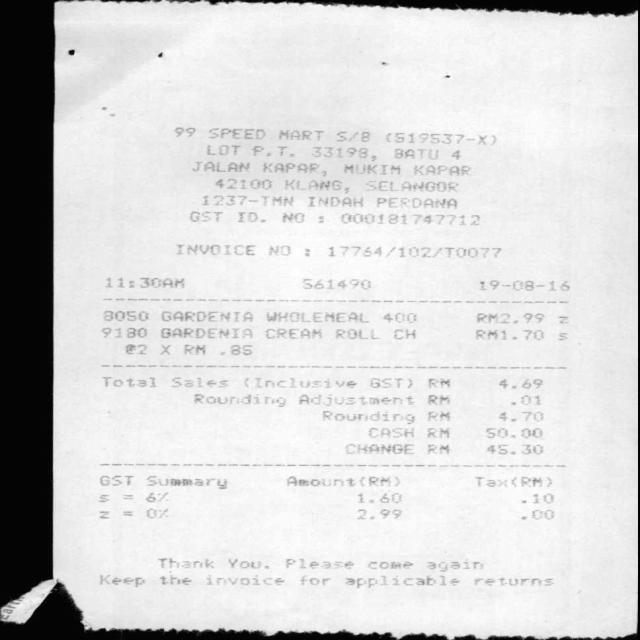text: (326, 245, 502, 258), (340, 212, 481, 226), (284, 474, 400, 488), (297, 394, 414, 406), (343, 575, 459, 587), (320, 409, 412, 424), (190, 393, 287, 407), (362, 179, 458, 193), (373, 195, 458, 210), (196, 194, 294, 207), (393, 132, 488, 145), (172, 242, 255, 256), (144, 474, 227, 488), (264, 312, 368, 323), (252, 377, 356, 388), (160, 327, 251, 339), (160, 311, 252, 322), (478, 280, 569, 291), (103, 276, 184, 288), (301, 277, 373, 290), (470, 475, 552, 486), (202, 575, 282, 586), (284, 558, 354, 570), (344, 443, 412, 455), (342, 161, 400, 175), (472, 576, 553, 586), (475, 329, 542, 341), (262, 160, 318, 174), (310, 146, 368, 159), (190, 160, 248, 173), (306, 195, 364, 208), (207, 127, 264, 140), (284, 178, 341, 191), (477, 313, 544, 324), (213, 178, 273, 190), (485, 442, 544, 454), (390, 146, 437, 161), (154, 557, 212, 569), (482, 427, 544, 438), (424, 560, 486, 571), (364, 425, 416, 438), (101, 376, 156, 388), (170, 377, 229, 388), (412, 164, 470, 175), (262, 328, 320, 339), (496, 409, 543, 422), (95, 574, 144, 586), (353, 508, 401, 520), (98, 327, 150, 338), (496, 378, 543, 390), (355, 491, 402, 503), (334, 328, 379, 340), (276, 129, 322, 140), (368, 560, 414, 571), (204, 143, 240, 157), (250, 144, 288, 157), (102, 311, 149, 321), (186, 210, 221, 222), (370, 377, 405, 389), (98, 474, 131, 486), (298, 574, 329, 586), (334, 131, 371, 141), (228, 558, 261, 569), (157, 574, 190, 585), (381, 312, 416, 322), (422, 427, 451, 438), (234, 210, 258, 223), (264, 244, 290, 256), (181, 343, 205, 356), (423, 442, 449, 454), (528, 508, 554, 520), (279, 212, 303, 224), (122, 344, 146, 356), (529, 492, 553, 504), (230, 343, 252, 356), (424, 410, 450, 421), (426, 378, 454, 388), (142, 508, 170, 518), (144, 491, 167, 503), (391, 329, 416, 340), (172, 125, 194, 137), (425, 395, 450, 405), (92, 492, 109, 505), (519, 395, 540, 405), (446, 148, 461, 160), (98, 509, 112, 520), (158, 344, 171, 355), (556, 315, 569, 323), (557, 331, 568, 340)
